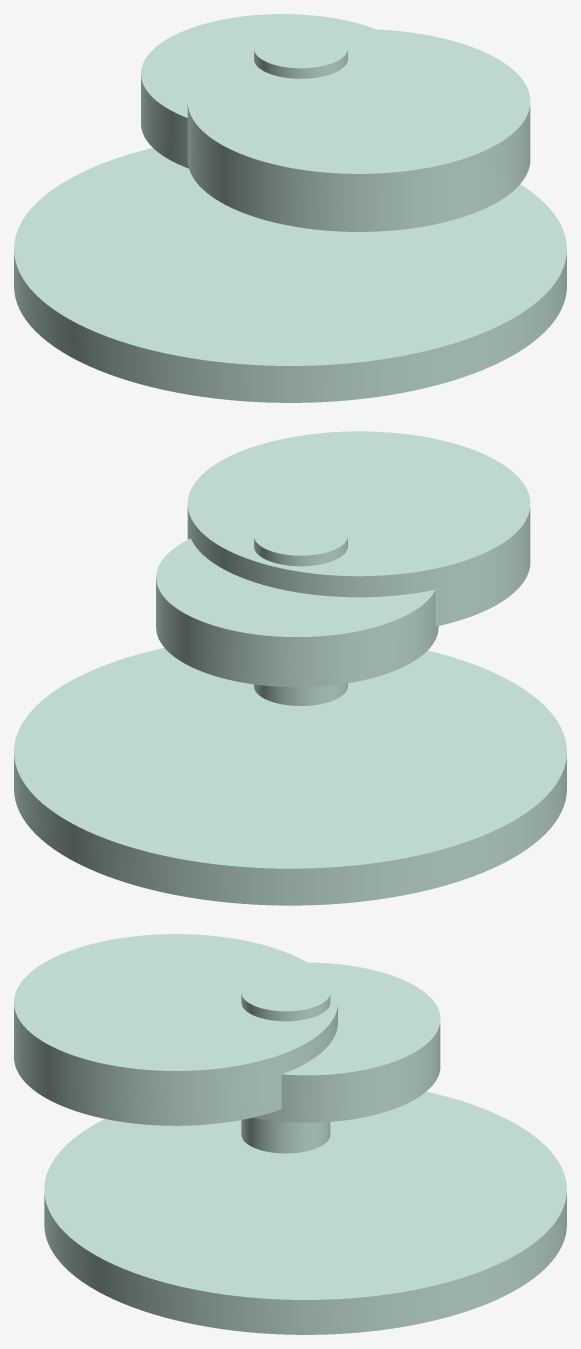
3 renders of one model, top to bottom at view 1: azimuth 30°, elevation 25°; view 2: azimuth 150°, elevation 25°; view 3: azimuth 270°, elevation 25°, orthographic. The views are drawn at different scales.
Parts seen in each view (by area): view 1: Renderer Node; view 2: Renderer Node; view 3: Renderer Node.
Part boxes in pixels (left/top/right/bottom): Renderer Node: left=14, top=14, right=566, bottom=402; Renderer Node: left=14, top=431, right=566, bottom=905; Renderer Node: left=14, top=934, right=566, bottom=1334.
Size of the model in its own units: 1.48 by 0.7266 by 1.57.
